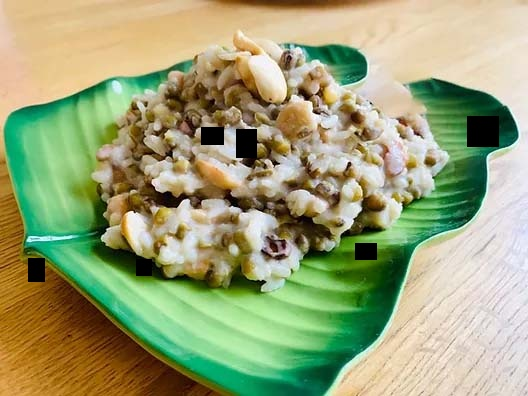kiribath: (97, 27, 443, 289)
